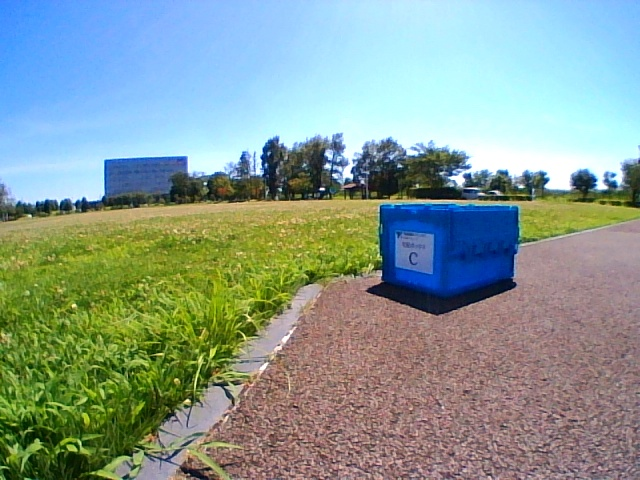blue_box: (379, 205, 518, 296)
tag_c: (397, 235, 432, 269)
